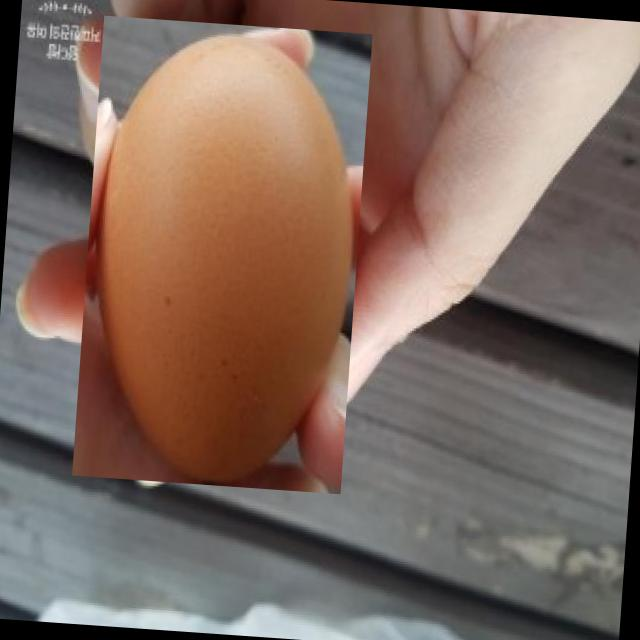eggs: (72, 14, 374, 494)
